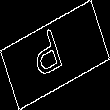P_SE: (35, 24, 75, 86)
